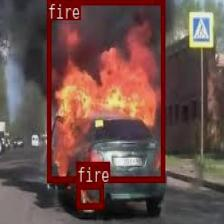fire: (47, 0, 164, 181), (75, 182, 103, 208)
